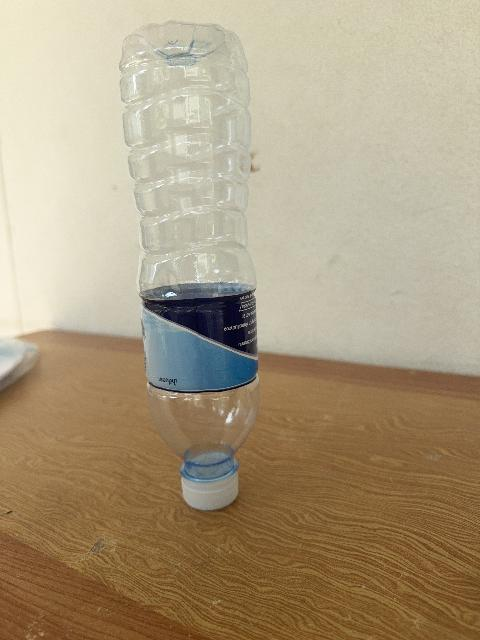bottle: (120, 22, 259, 509)
